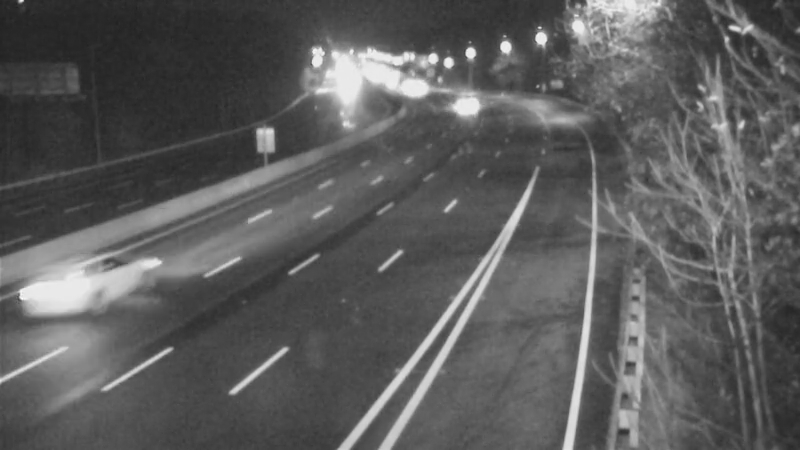vehicle: (12, 250, 92, 330), (442, 79, 492, 129)
